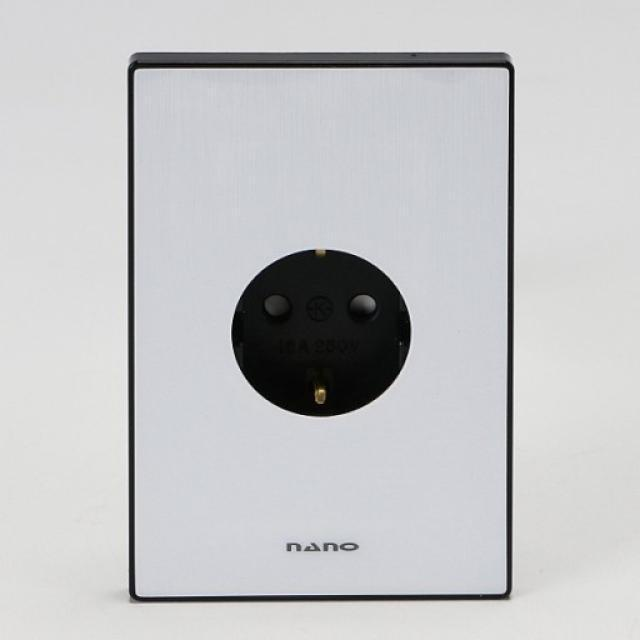typeb: (103, 35, 563, 605)
